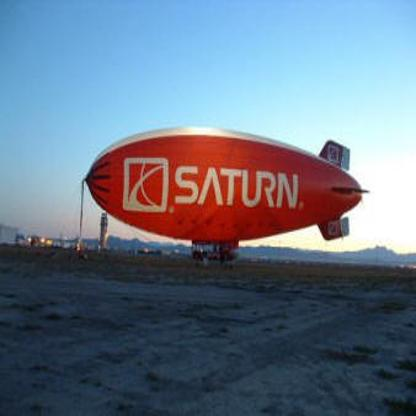Airship: (81, 125, 366, 266)
